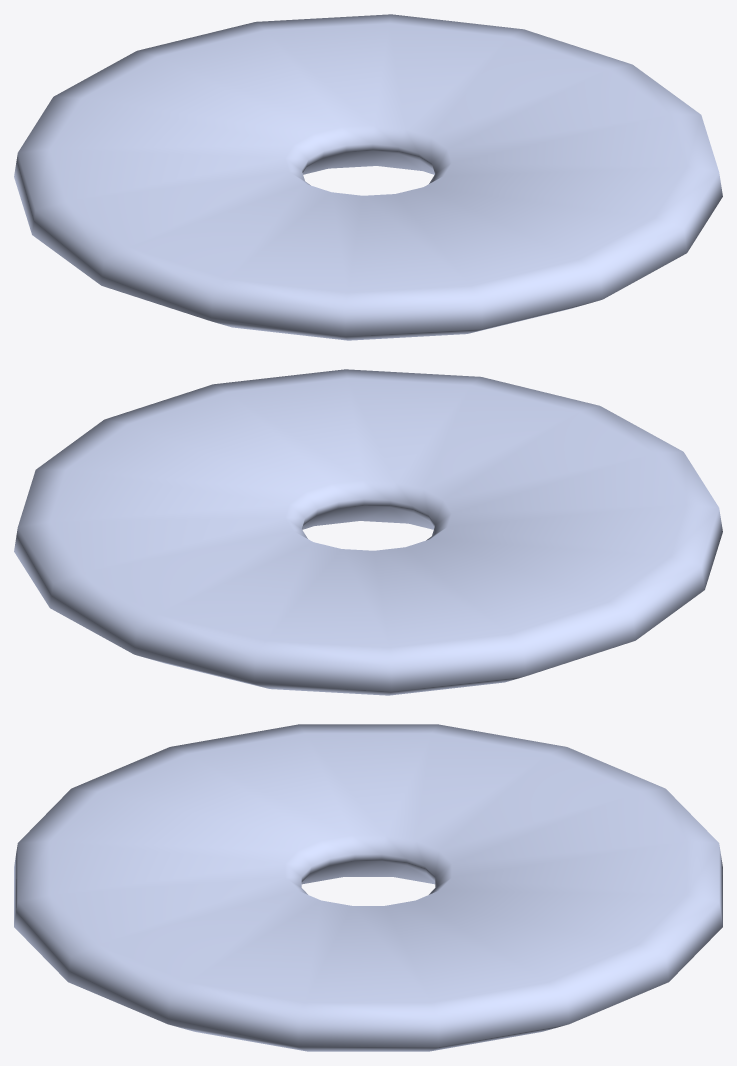
Rendered from Elevator_03.fbx.
The picture shows the model from 3 angles, top to bottom: view 1: azimuth 30°, elevation 25°; view 2: azimuth 150°, elevation 25°; view 3: azimuth 270°, elevation 25°; orthographic projection.
Parts seen in each view (by area): view 1: Elevator_03; view 2: Elevator_03; view 3: Elevator_03.
Boxes of the visible parts, left/top/right/bottom form: Elevator_03: left=14, top=14, right=722, bottom=340; Elevator_03: left=14, top=369, right=722, bottom=695; Elevator_03: left=14, top=724, right=722, bottom=1051.
Size of the model in its own units: 2394 by 260 by 2394.
